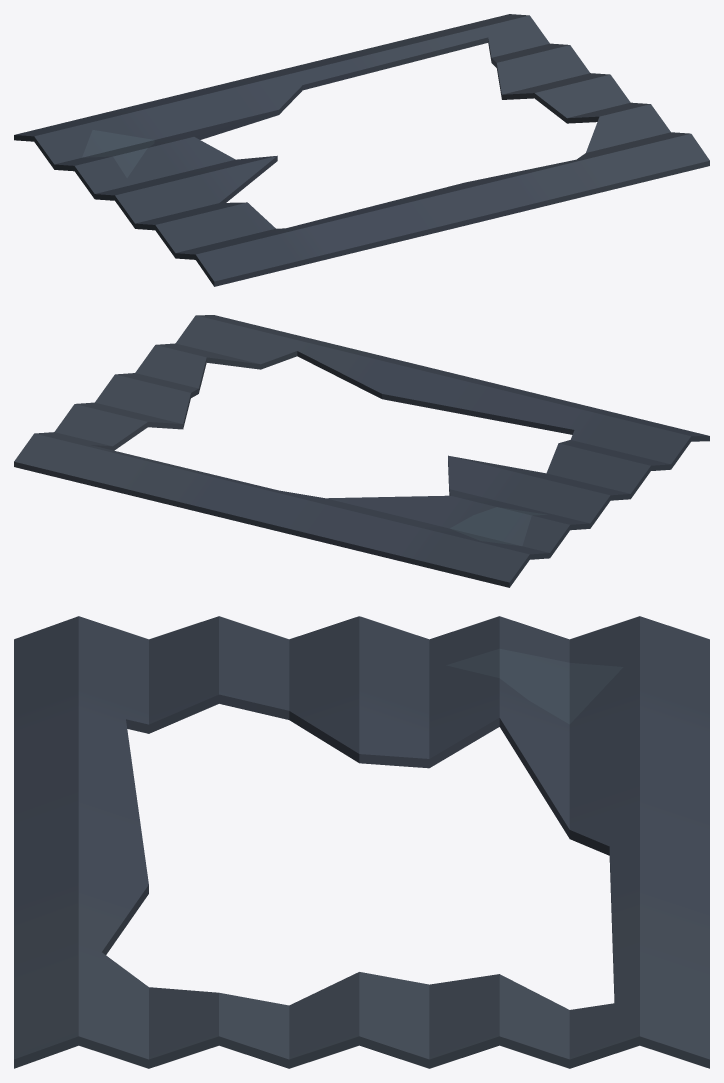
Rendered from SheetMetal_C_3.fbx.
3 renders of one model, top to bottom at view 1: azimuth 30°, elevation 25°; view 2: azimuth 150°, elevation 25°; view 3: azimuth 270°, elevation 25°, orthographic. The views are drawn at different scales.
Parts seen in each view (by area): view 1: SheetMetal_C_3; view 2: SheetMetal_C_3; view 3: SheetMetal_C_3.
Part boxes in pixels (x1,y1,x2,y2): SheetMetal_C_3: [14, 14, 709, 286]; SheetMetal_C_3: [14, 315, 709, 587]; SheetMetal_C_3: [14, 616, 709, 1068].
Bounding box in the file's own units: 137 × 4.96 × 96.03.
